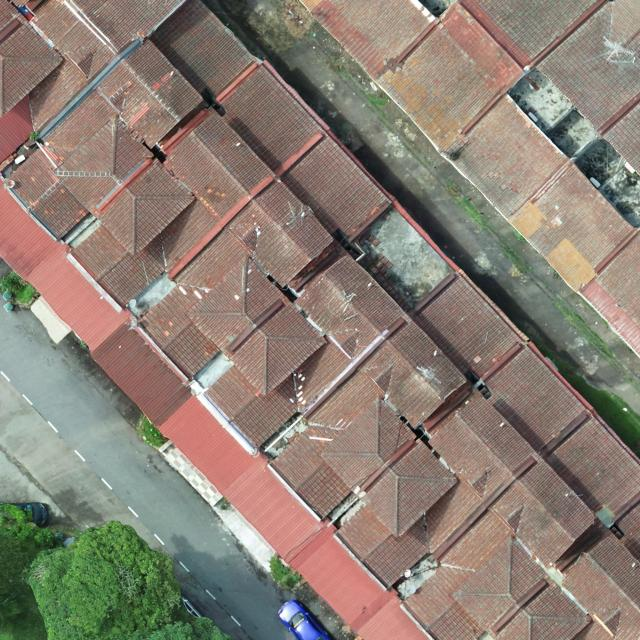Tree: (26, 520, 183, 640)
